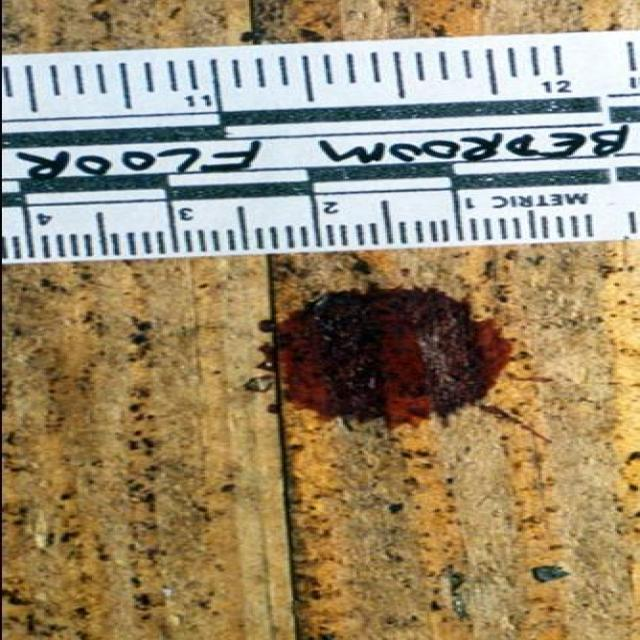flood: (257, 278, 530, 428)
